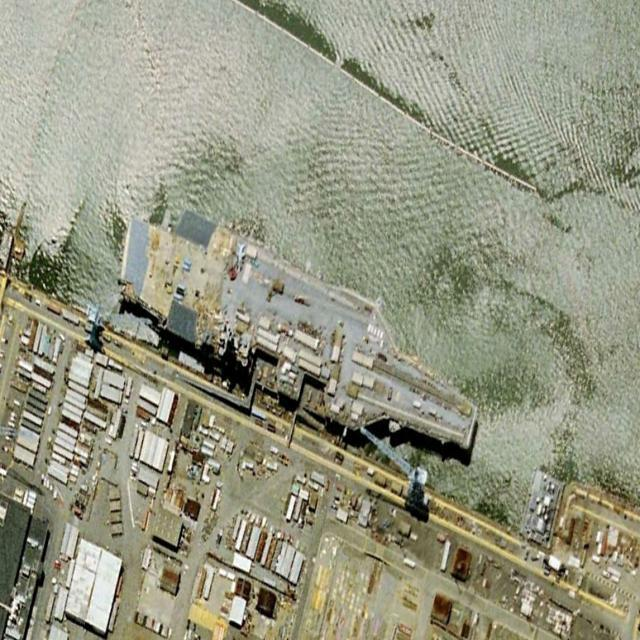Aircraft Carrier: (109, 183, 490, 486)
